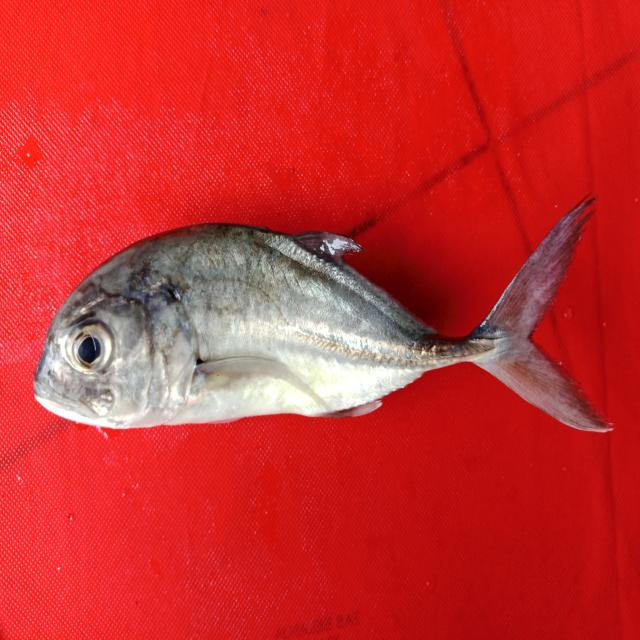ikan: (12, 183, 622, 456)
